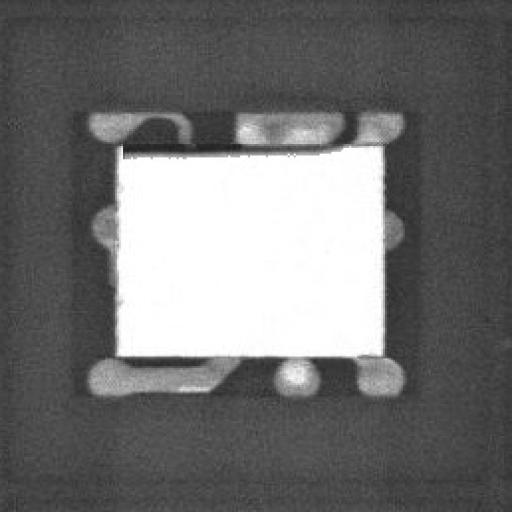DIE_BROKEN: (117, 136, 345, 156)
